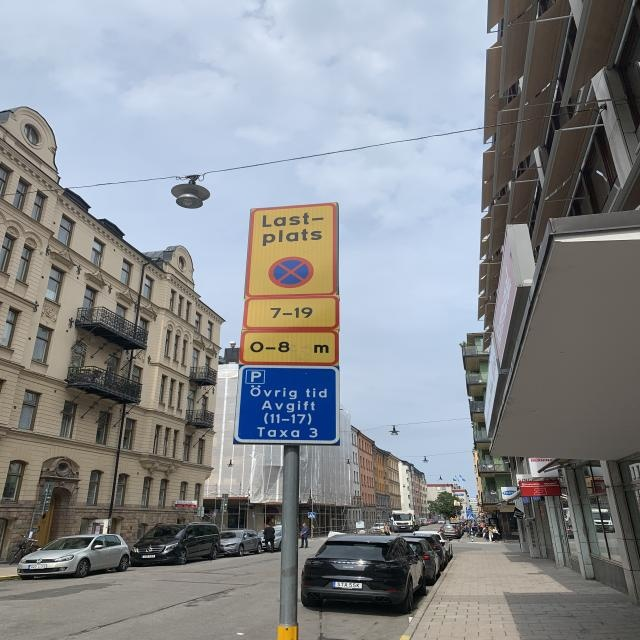lastplats: (246, 201, 341, 302)
